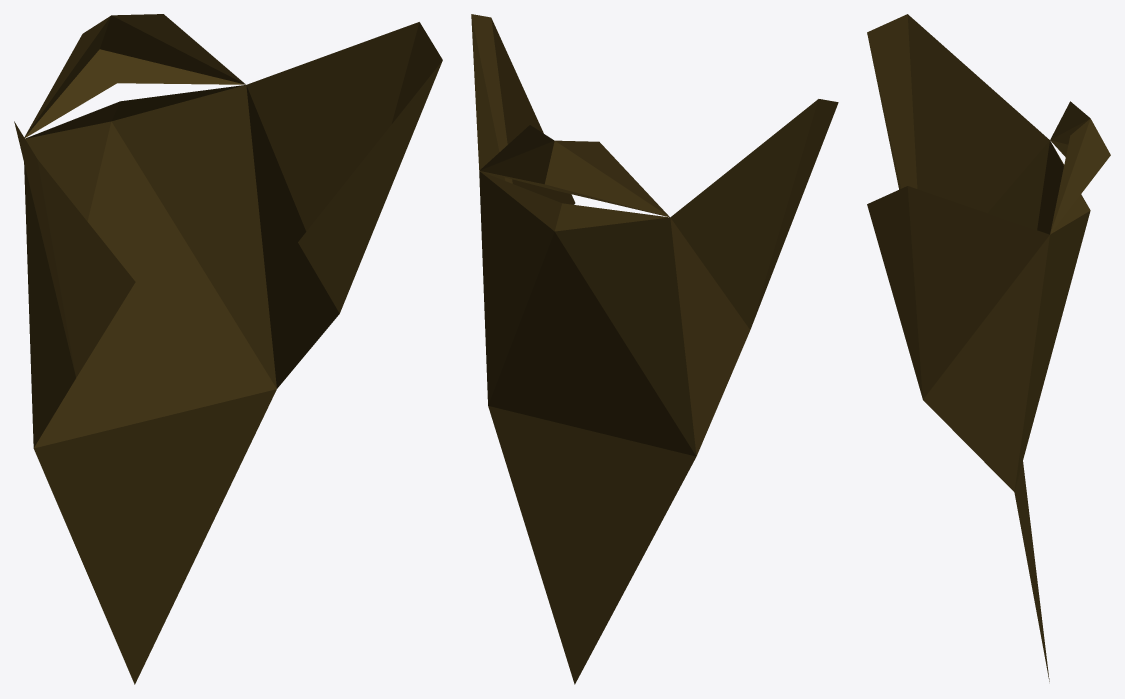
File: npc_chat_zoo_keeper_1.obj
3 renders of one model, left to right at view 1: azimuth 30°, elevation 25°; view 2: azimuth 150°, elevation 25°; view 3: azimuth 270°, elevation 25°, orthographic. The views are drawn at different scales.
Size of the model in its own units: 0.625 by 0.9922 by 0.375.
